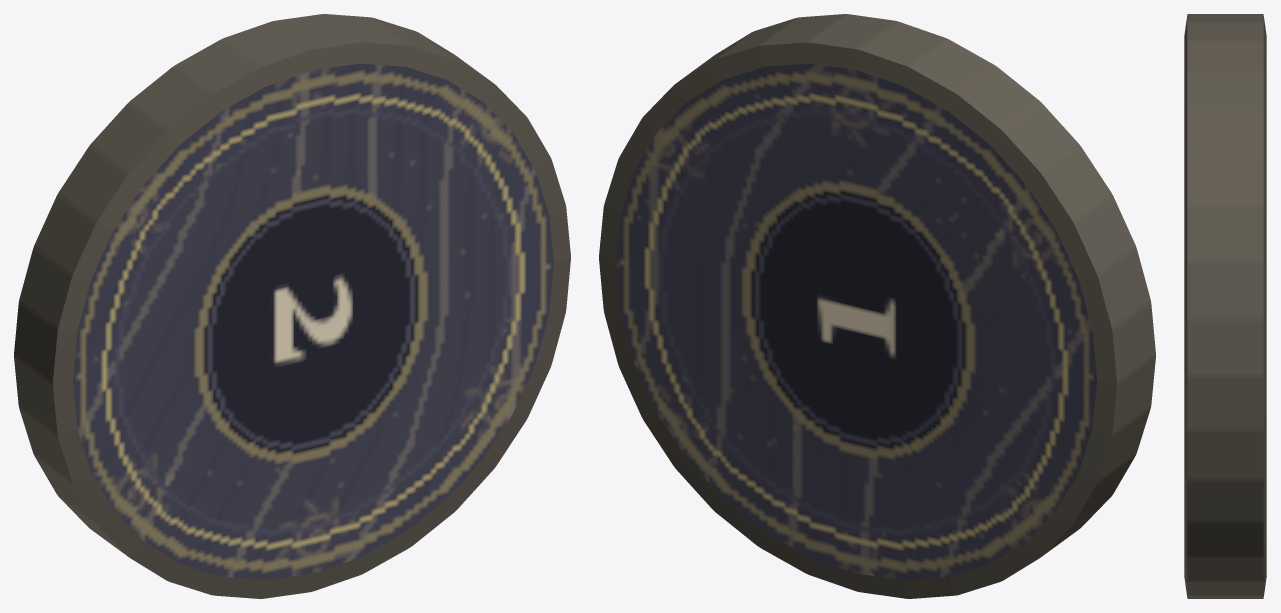
3 views of the same model, side by side, from view 1: azimuth 30°, elevation 25°; view 2: azimuth 150°, elevation 25°; view 3: azimuth 270°, elevation 25° (orthographic). The views are drawn at different scales.
Size of the model in its own units: 101 by 101 by 14.14.
1 material, 1 textured.
